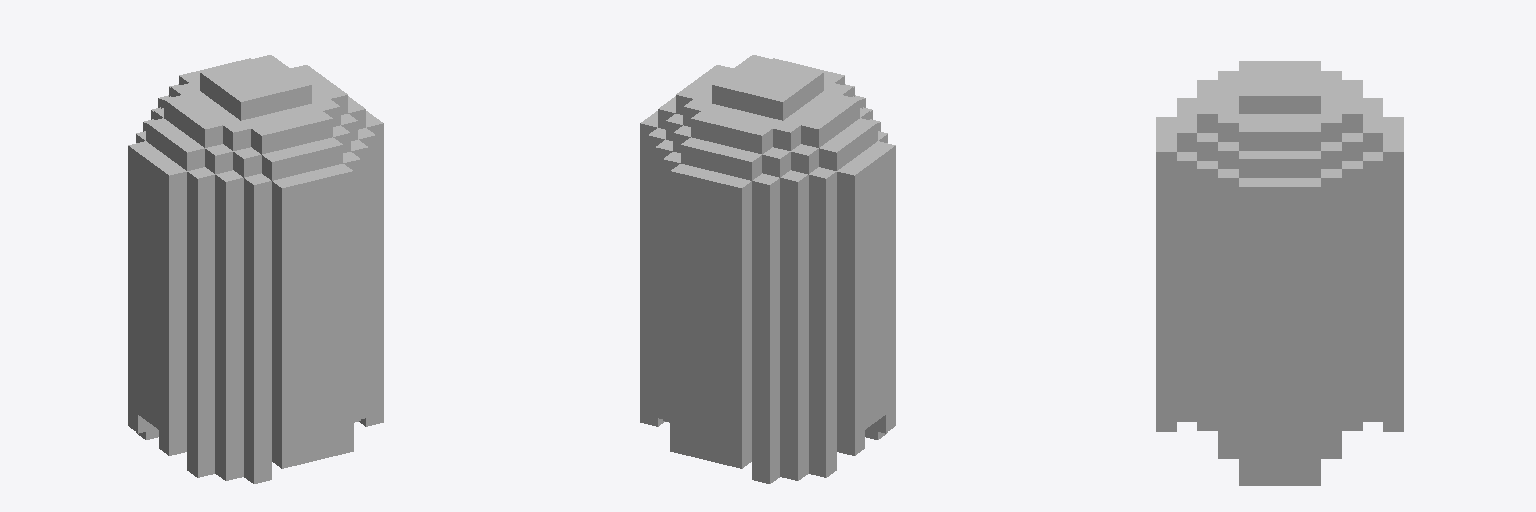
The model's file is GhostBody1.obj.
3 views of the same model, side by side, from view 1: azimuth 30°, elevation 25°; view 2: azimuth 150°, elevation 25°; view 3: azimuth 270°, elevation 25° (orthographic).
Visible parts, largest first — view 1: object 1; view 2: object 1; view 3: object 1.
Boxes of the visible parts, x1,y1,x2,y2 form: object 1: [128, 55, 383, 483]; object 1: [640, 55, 895, 483]; object 1: [1156, 61, 1403, 485].
Size of the model in its own units: 1.2 by 1.9 by 1.2.